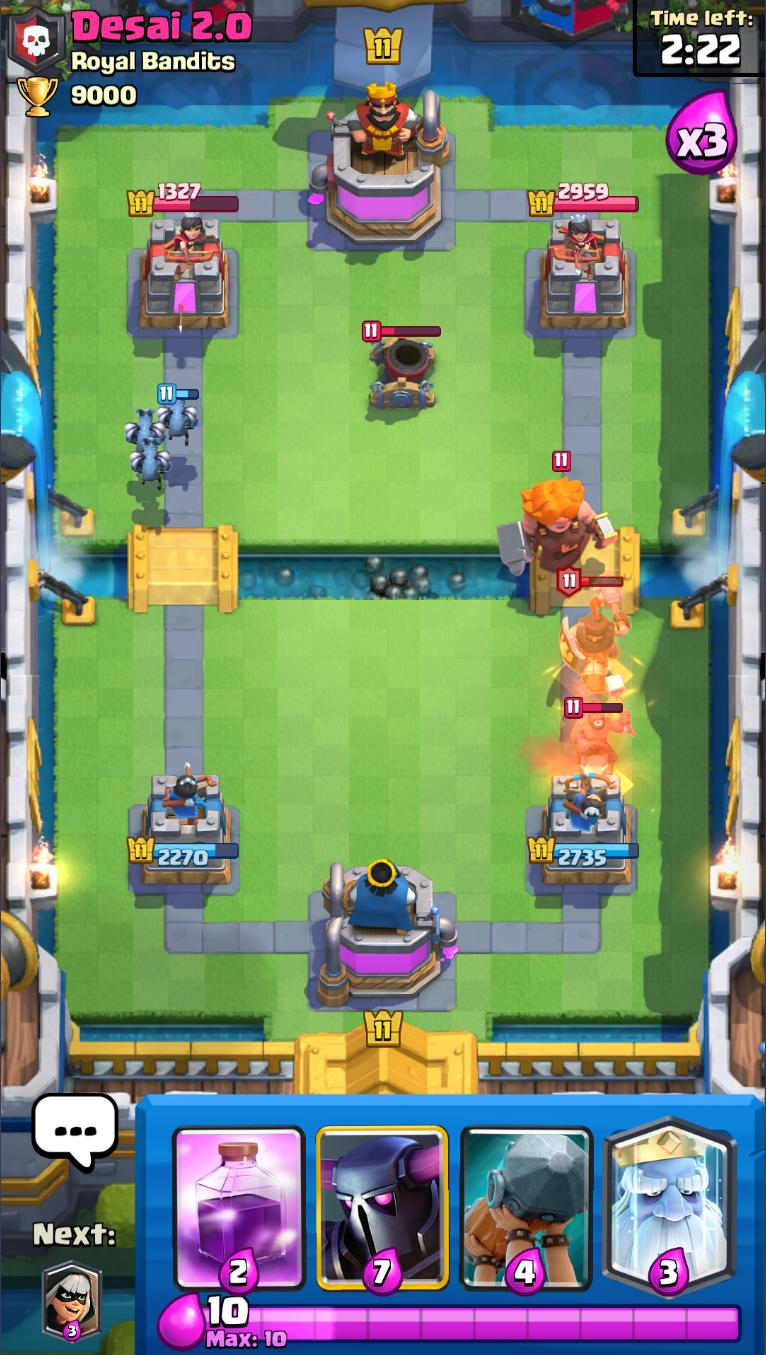BanditNext: (41, 1262, 105, 1343)
BattleRamDeck: (455, 1099, 598, 1295)
DarkPrince: (555, 569, 634, 694)
Elixir: (203, 1296, 744, 1351)
EnemyTower: (135, 216, 234, 331), (537, 216, 633, 333)
Hog: (562, 675, 638, 777)
KingTower: (307, 78, 453, 247)
Mortar: (362, 319, 442, 413)
MyKingTower: (315, 859, 460, 1009)
MyMinion: (156, 381, 201, 447), (128, 436, 174, 490), (122, 404, 167, 452)
MyPrincessTower: (526, 770, 641, 890), (128, 772, 242, 890)
MyPrincessTowerHP: (127, 836, 241, 869), (525, 835, 641, 867)
PekkaDeck: (312, 1101, 453, 1296)
RageDeck: (166, 1096, 312, 1295)
RoyaleGhostDeck: (597, 1097, 742, 1298)
RuneGiant: (498, 450, 618, 579)
TowerPrincessHP: (528, 182, 640, 219), (128, 182, 241, 218)
